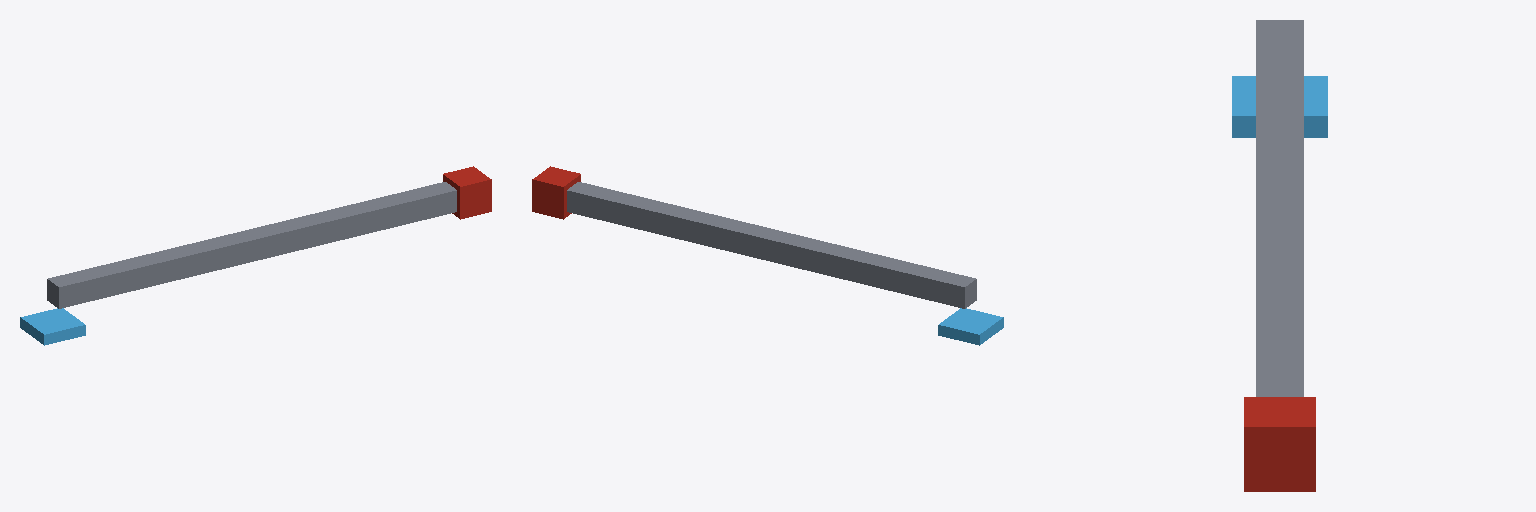
The robot description file, URDF, robot "bielle":
<?xml version="1.0"?>
<!-- Exported by SolidCraft; units: m, kg, rad -->
<robot name="bielle">
  <link name="base_link">
  </link>
  <link name="Bati">
    <inertial>
      <origin xyz="0 0 -0.03" rpy="0 0 0"/>
      <mass value="0.02064"/>
      <inertia ixx="2.9240000000000024e-6" ixy="0" ixz="-1.501757651567459e-22" iyy="2.9240000000000037e-6" iyz="1.501757651567459e-22" izz="5.504e-6"/>
    </inertial>
    <visual>
      <origin xyz="0 0 0" rpy="0 0 0"/>
      <geometry><mesh filename="bielle-Bati.stl"/></geometry>
    </visual>
    <collision>
      <origin xyz="0 0 0" rpy="0 0 0"/>
      <geometry><mesh filename="bielle-Bati.stl"/></geometry>
    </collision>
  </link>
  <link name="Manivelle">
    <inertial>
      <origin xyz="0 -0.05 0" rpy="0 0 0"/>
      <mass value="0.312"/>
      <inertia ixx="2.7039999999999985e-4" ixy="-1.816079020500183e-21" ixz="0" iyy="2.0800000000000038e-5" iyz="-2.7241185307502744e-21" izz="2.7039999999999985e-4"/>
    </inertial>
    <visual>
      <origin xyz="0 0 0" rpy="0 0 -1.5707963267948966"/>
      <geometry><mesh filename="bielle-Manivelle.stl"/></geometry>
      <material name="Manivelle_color"><color rgba="0.5411764979362488 0.5607843399047852 0.6000000238418579 1"/></material>
    </visual>
    <collision>
      <origin xyz="0 0 0" rpy="0 0 -1.5707963267948966"/>
      <geometry><mesh filename="bielle-Manivelle.stl"/></geometry>
    </collision>
  </link>
  <link name="Piston">
    <inertial>
      <origin xyz="0 0 0" rpy="0 0 0"/>
      <mass value="0.5"/>
      <inertia ixx="7.5e-5" ixy="0" ixz="0" iyy="7.5e-5" iyz="0" izz="7.5e-5"/>
    </inertial>
    <visual>
      <origin xyz="0 0 -0.4" rpy="0 -1.5707963267948966 -3.141592653589793"/>
      <geometry><mesh filename="bielle-Piston.stl"/></geometry>
      <material name="Piston_color"><color rgba="0.7529411911964417 0.2235294133424759 0.16862745583057404 1"/></material>
    </visual>
    <collision>
      <origin xyz="0 0 -0.4" rpy="0 -1.5707963267948966 -3.141592653589793"/>
      <geometry><mesh filename="bielle-Piston.stl"/></geometry>
    </collision>
  </link>
  <link name="Bielle">
    <inertial>
      <origin xyz="0 -0.14999999999999997 0" rpy="0 0 0"/>
      <mass value="0.9359999999999999"/>
      <inertia ixx="0.0070512" ixy="0" ixz="0" iyy="6.24e-5" iyz="0" izz="0.0070512"/>
    </inertial>
    <visual>
      <origin xyz="0 0.1 0" rpy="0 0 -1.5707963267948966"/>
      <geometry><mesh filename="bielle-Bielle.stl"/></geometry>
      <material name="Bielle_color"><color rgba="0.5411764979362488 0.5607843399047852 0.6000000238418579 1"/></material>
    </visual>
    <collision>
      <origin xyz="0 0.1 0" rpy="0 0 -1.5707963267948966"/>
      <geometry><mesh filename="bielle-Bielle.stl"/></geometry>
    </collision>
  </link>
  <joint name="Bati_fixed" type="fixed">
    <parent link="base_link"/>
    <child link="Bati"/>
    <origin xyz="0 0 0" rpy="0 0 0"/>
  </joint>
  <joint name="L01_pivot" type="continuous">
    <parent link="Bati"/>
    <child link="Manivelle"/>
    <origin xyz="0 0 0" rpy="0 0 1.5707963267948966"/>
    <axis xyz="0 0 1"/>
    <limit effort="1000" velocity="10"/>
  </joint>
  <joint name="L30_glissiere" type="prismatic">
    <parent link="Bati"/>
    <child link="Piston"/>
    <origin xyz="0.4 0 0" rpy="0 -1.5707963267948966 -3.141592653589793"/>
    <axis xyz="0 0 1"/>
    <limit lower="-1000" upper="1000" effort="1000" velocity="10"/>
  </joint>
  <joint name="L12_pivot" type="continuous">
    <parent link="Manivelle"/>
    <child link="Bielle"/>
    <origin xyz="0 -0.1 0" rpy="0 0 0"/>
    <axis xyz="0 0 1"/>
    <limit effort="1000" velocity="10"/>
  </joint>
</robot>

--- Render facts (derived) ---
The picture shows the robot from 3 angles, left to right: view 1: azimuth 30°, elevation 25°; view 2: azimuth 150°, elevation 25°; view 3: azimuth 270°, elevation 25°; orthographic projection.
Robot: bielle — 5 links, 4 joints (2 continuous, 1 prismatic, 1 fixed); root link base_link; default pose: every joint at zero.
Visible links, largest first — view 1: Bielle, Manivelle, Piston, Bati; view 2: Bielle, Manivelle, Piston, Bati; view 3: Bielle, Piston, Manivelle, Bati.
Boxes of the visible links, <box> form: Bielle: <box>151,182,456,283</box>; Manivelle: <box>47,254,162,308</box>; Piston: <box>443,166,491,219</box>; Bati: <box>20,308,85,345</box>; Bielle: <box>567,182,872,283</box>; Manivelle: <box>861,254,976,308</box>; Piston: <box>532,166,580,219</box>; Bati: <box>938,308,1003,345</box>; Bielle: <box>1256,121,1303,396</box>; Piston: <box>1244,397,1315,491</box>; Manivelle: <box>1256,20,1303,120</box>; Bati: <box>1232,76,1327,137</box>.
Bounding box of the posed robot: 0.435 × 0.04 × 0.05 m (x, y, z).
4 mesh visuals loaded from 4 distinct referenced files (4 binary STL).
